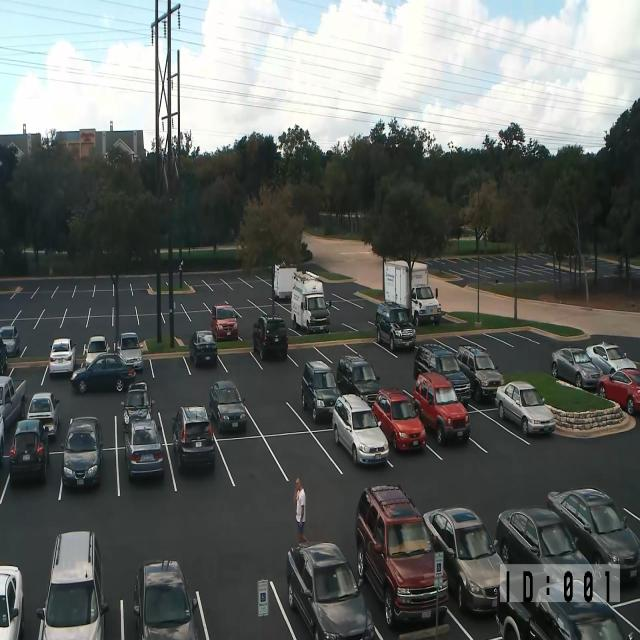car: (355, 484, 449, 630), (496, 572, 639, 640), (494, 506, 594, 603), (422, 506, 507, 616), (546, 486, 640, 584), (286, 540, 375, 640), (36, 530, 109, 639), (133, 559, 199, 639), (528, 598, 638, 640), (413, 371, 471, 446), (332, 393, 389, 466), (413, 344, 471, 407), (372, 388, 426, 452), (495, 381, 556, 436), (61, 415, 103, 489), (172, 405, 216, 472), (456, 345, 504, 402), (70, 352, 136, 393), (9, 418, 49, 483), (123, 417, 164, 480), (301, 360, 341, 423), (336, 354, 381, 406), (550, 346, 603, 390), (596, 368, 640, 415), (375, 301, 416, 351), (209, 380, 247, 432), (0, 564, 24, 639), (586, 340, 637, 375), (121, 381, 154, 433), (252, 314, 288, 360), (26, 392, 60, 439), (414, 342, 456, 379), (0, 374, 27, 430), (411, 283, 441, 327), (115, 332, 144, 371), (189, 329, 218, 367), (211, 303, 238, 342), (49, 338, 76, 376), (83, 335, 110, 370), (0, 325, 20, 356), (0, 337, 8, 375), (0, 412, 5, 467)
